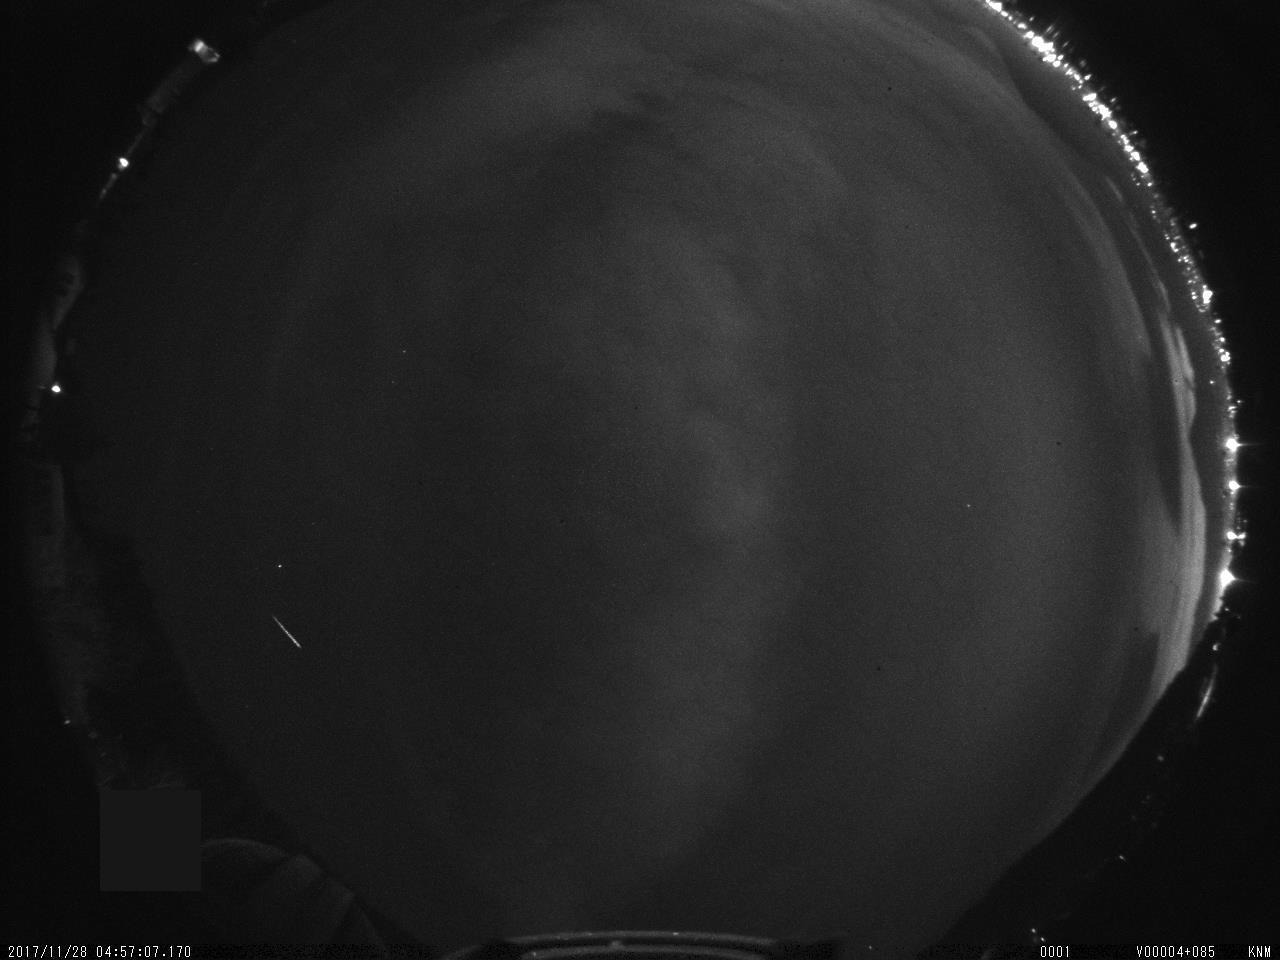Meteor: (266, 612, 306, 657)
